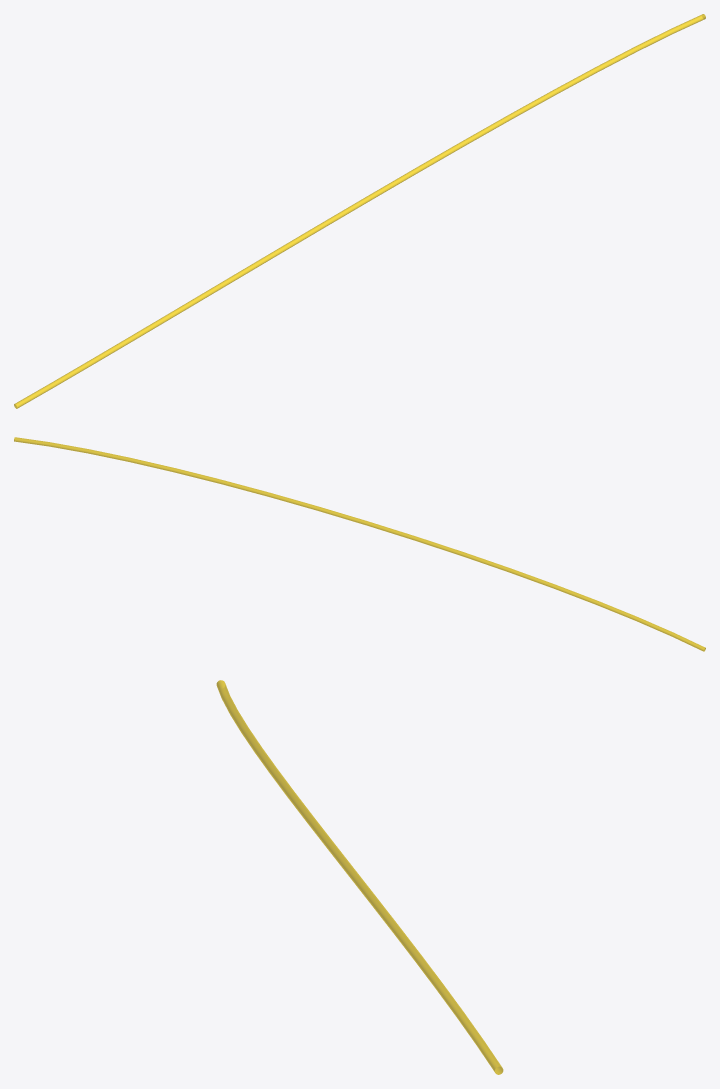
Rendered from Event_75125125_track_41.fbx.
3 renders of one model, top to bottom at view 1: azimuth 30°, elevation 25°; view 2: azimuth 150°, elevation 25°; view 3: azimuth 270°, elevation 25°, orthographic. The views are drawn at different scales.
Visible parts, largest first — view 1: Model; view 2: Model; view 3: Model.
Boxes of the visible parts, x1,y1,x2,y2 form: Model: (14,14,705,408); Model: (14,437,705,651); Model: (216,680,503,1074).
Bounding box in the file's own units: 6.41 × 1.12 × 1.28.
